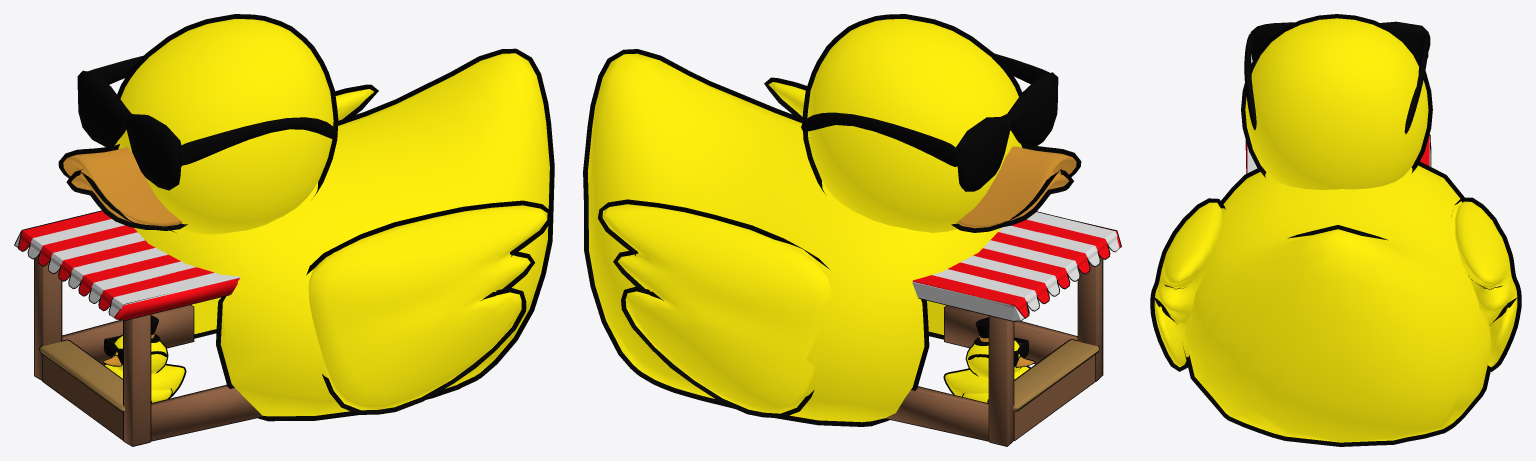
The model's file is DuckyStand.glb.
3 renders of one model, left to right at view 1: azimuth 30°, elevation 25°; view 2: azimuth 150°, elevation 25°; view 3: azimuth 270°, elevation 25°, orthographic. The views are drawn at different scales.
Parts seen in each view (by area): view 1: BigDuck, Cube.014, Shadow, Body.001; view 2: BigDuck, Cube.014, Shadow, Body.001, Head.001; view 3: BigDuck, Shadow.
Part boxes in pixels (<box>): BigDuck: <box>63,19,549,416</box>; Cube.014: <box>15,211,263,445</box>; Shadow: <box>14,14,554,446</box>; Body.001: <box>105,364,184,393</box>; BigDuck: <box>588,19,1076,422</box>; Cube.014: <box>885,212,1120,445</box>; Shadow: <box>583,14,1121,446</box>; Body.001: <box>945,366,1029,396</box>; Head.001: <box>966,340,1019,377</box>; BigDuck: <box>1154,18,1517,442</box>; Shadow: <box>1150,14,1521,446</box>.
Size of the model in its own units: 31.47 by 22.72 by 23.83.
17 materials, 16 textured.
